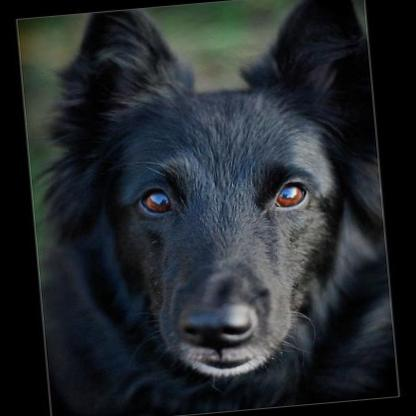groenendael: (27, 0, 416, 416)
